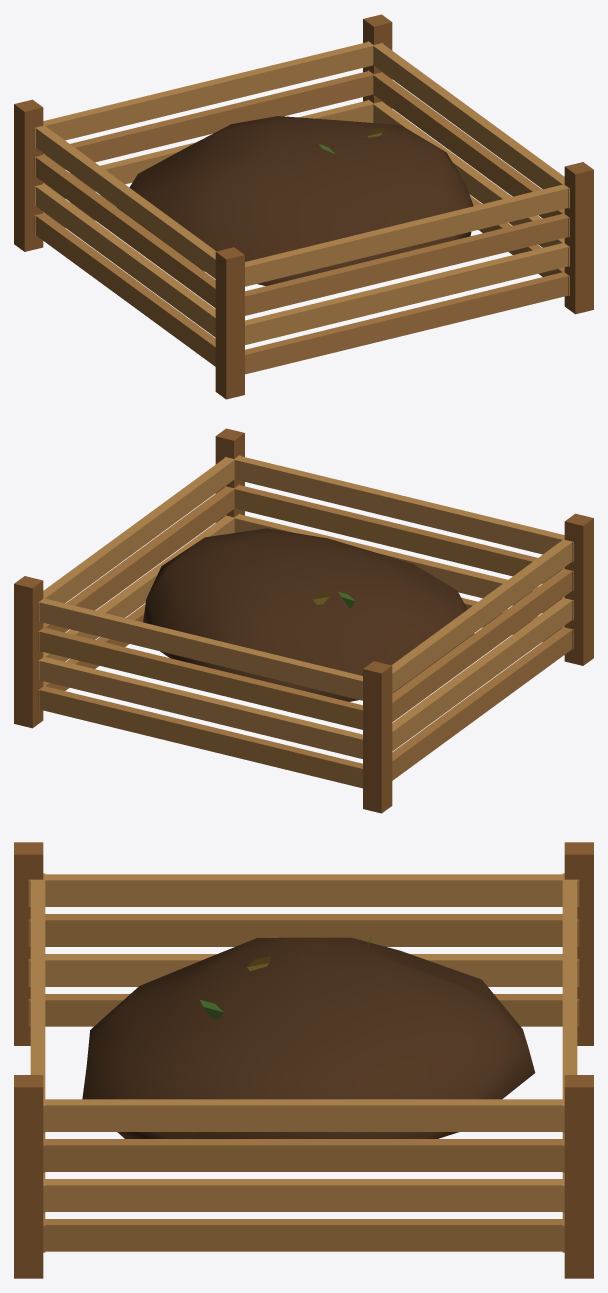
The model's file is compost_bin.glb.
3 views of the same model, one above another, from view 1: azimuth 30°, elevation 25°; view 2: azimuth 150°, elevation 25°; view 3: azimuth 270°, elevation 25° (orthographic). The views are drawn at different scales.
Visible parts, largest first — view 1: building-compost_bin; view 2: building-compost_bin; view 3: building-compost_bin.
Boxes of the visible parts, x1,y1,x2,y2 form: building-compost_bin: (14,14,593,399); building-compost_bin: (14,428,593,813); building-compost_bin: (14,842,593,1278).
Bounding box in the file's own units: 3.16 × 1.16 × 3.16.
